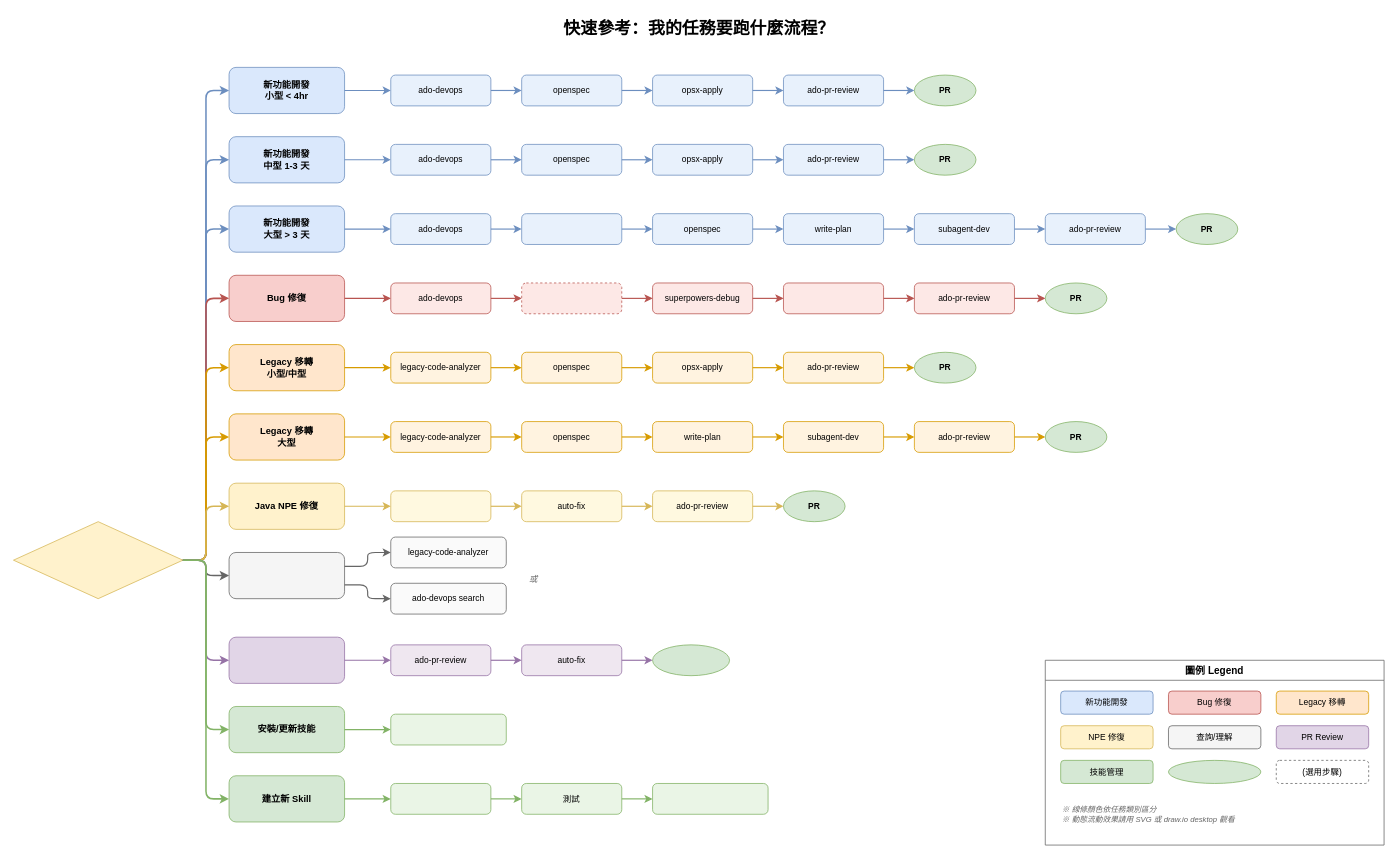
This 1398x859 diagram has some shape labels left out. Each missing label, with the centre of its shape:
(legacy-analyzer): pixel 571 298
brainstorm: pixel 571 228
npe-guardian: pixel 440 506
Q：我的任務是什麼？: pixel 98 560
resolve: pixel 691 660
skill-creator: pixel 440 798
skill-manual-writer: pixel 710 798
TDD fix: pixel 833 298
team-skill-installer: pixel 448 729
快速查詢 / 理解程式碼: pixel 286 575
日常維護 PR Review: pixel 286 659
終點 / PR: pixel 1214 771
